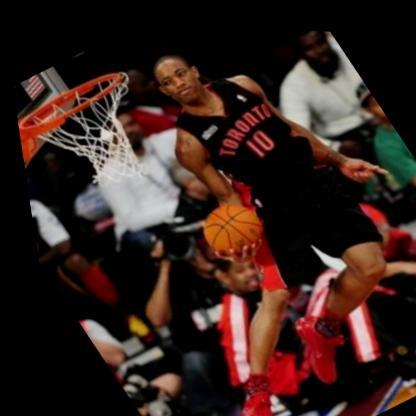basketball: (181, 185, 270, 264)
rim: (6, 54, 182, 214)
